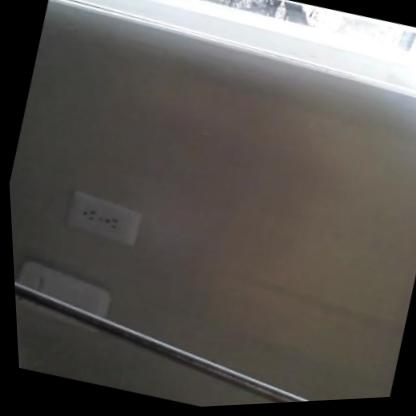OUTLET: (65, 189, 145, 250)
